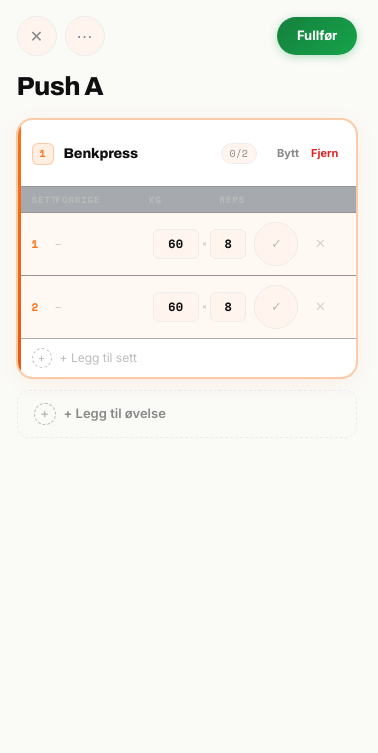
Test: WorkoutPage › ✓ starter hviletimer som viser nedtelling
Click the button named "Marker som fullført" at [276, 244], box [254,222,298,266]
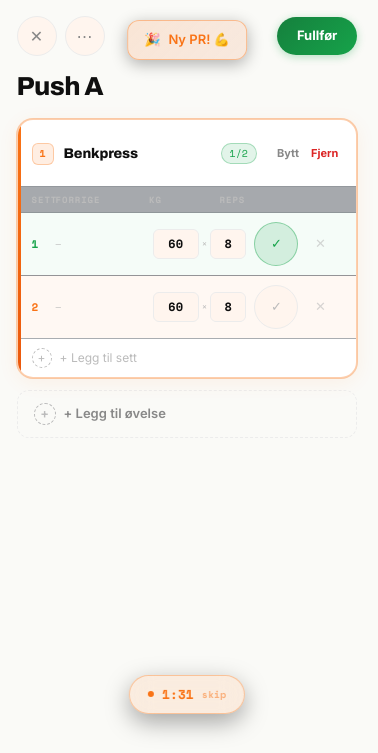
Check: the button with aria-label "Avbryt hviletimer" is shown, box [129,674,245,714]
